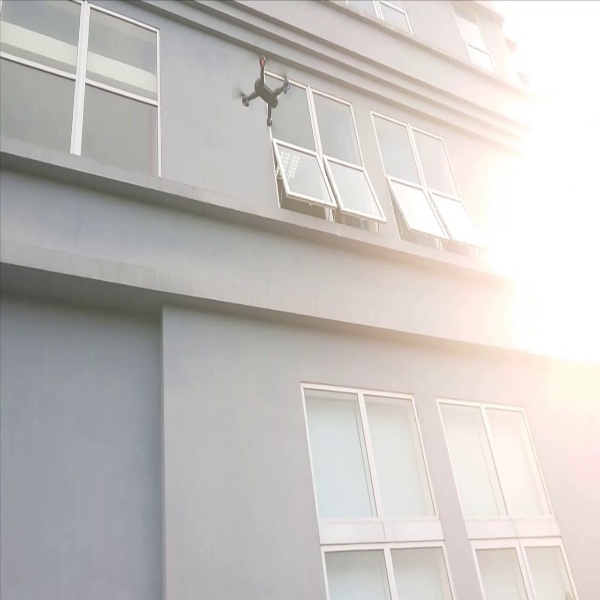drone: (231, 42, 299, 131)
